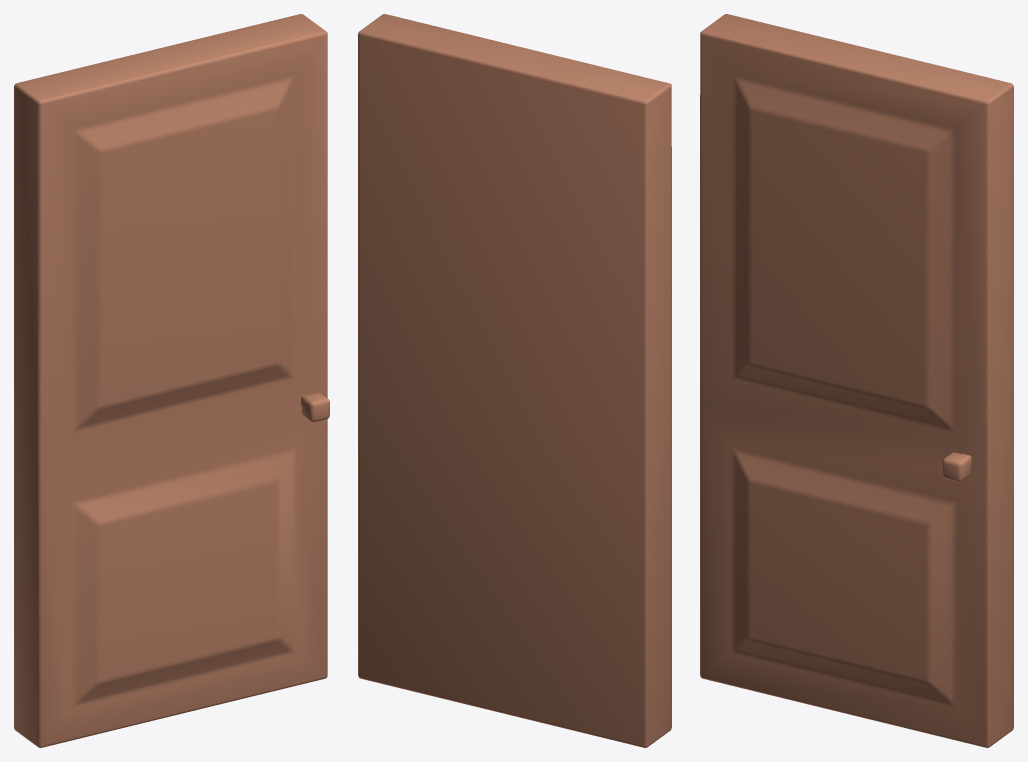
Rendered from Door 1.fbx.
3 views of the same model, side by side, from view 1: azimuth 30°, elevation 25°; view 2: azimuth 150°, elevation 25°; view 3: azimuth 330°, elevation 25° (orthographic).
Parts seen in each view (by area): view 1: Door.002; view 2: Door.002; view 3: Door.002.
Boxes of the visible parts, x1,y1,x2,y2 form: Door.002: [14, 14, 329, 747]; Door.002: [358, 14, 671, 747]; Door.002: [700, 14, 1013, 747].
Bounding box in the file's own units: 76.13 × 162 × 18.9.
